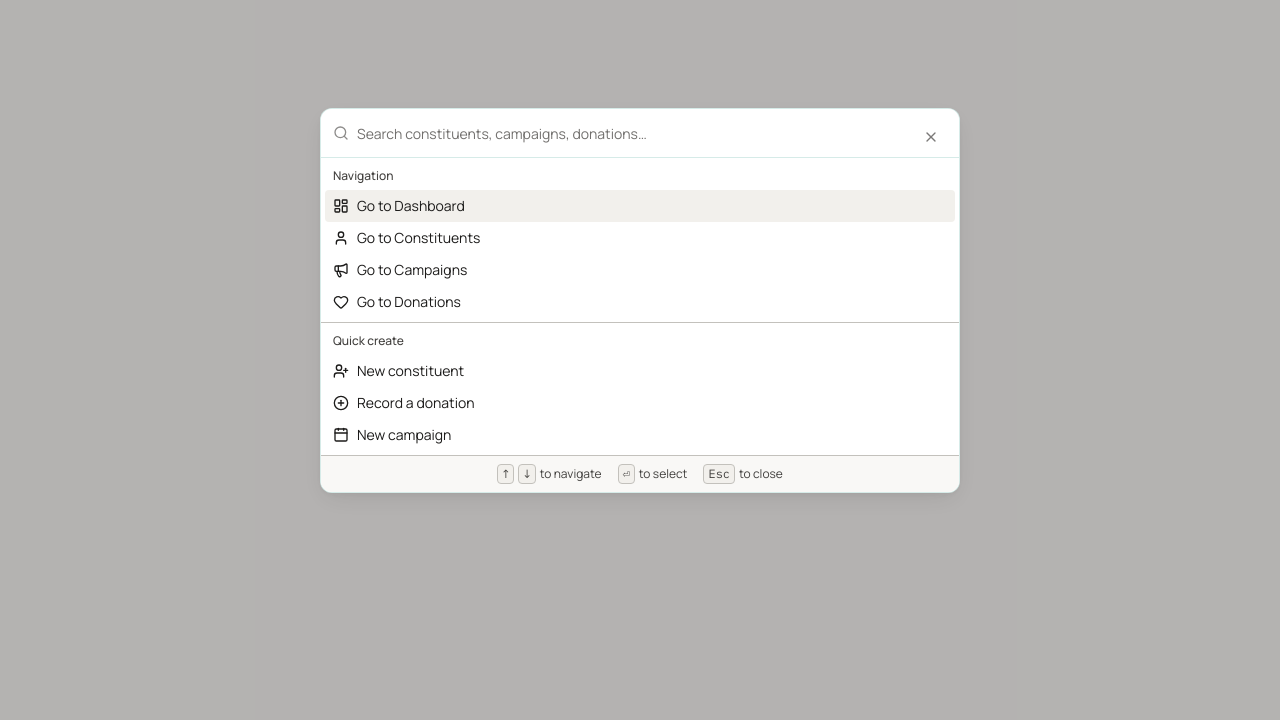
Scenario: CommandPalette — debounce + search › renders the error branch when SearchService rejects (non-abort)
In the dropdown: (652, 133) [357,109,947,157], type "marie"
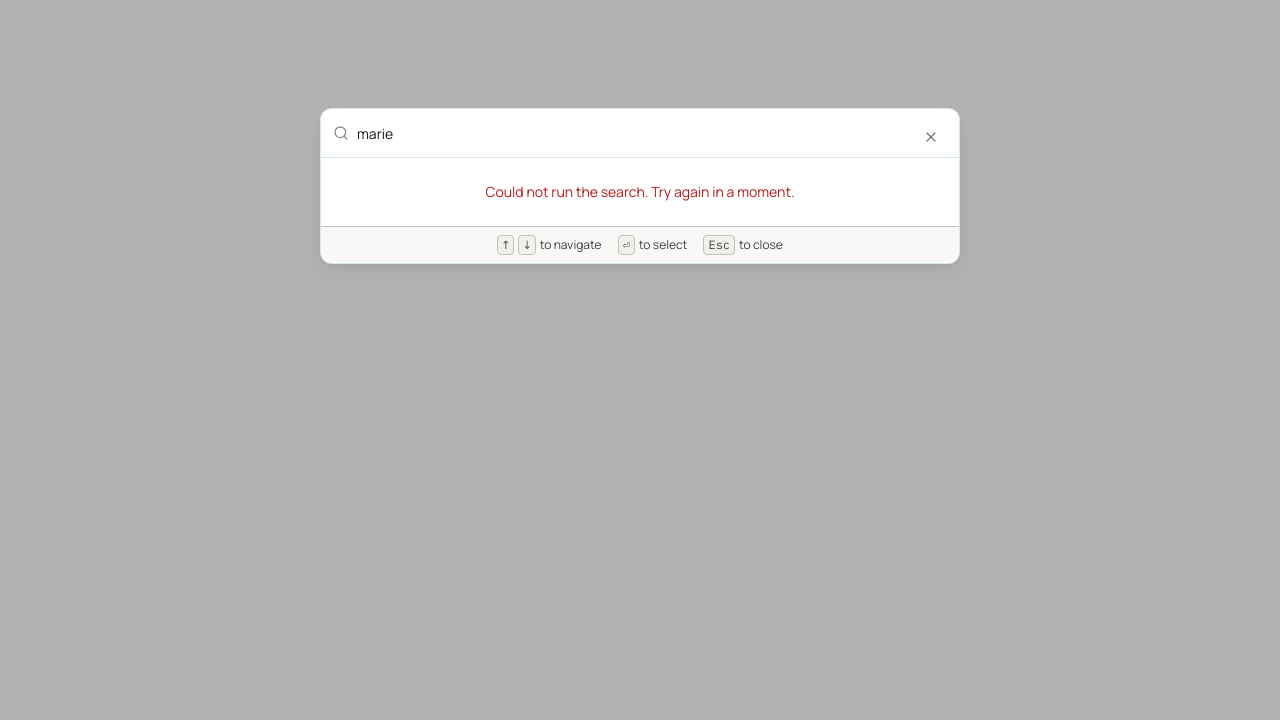
Check: the message "Could not run the search. Try again in a moment." is shown, box [485,182,795,201]
